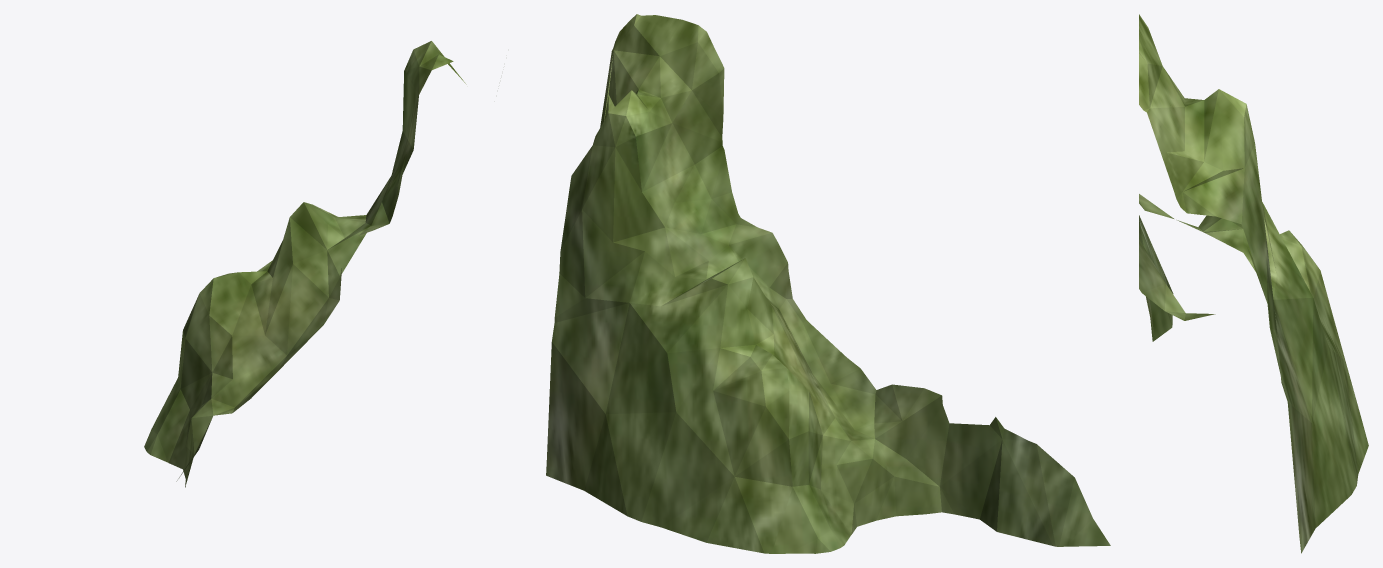
3 renders of one model, left to right at view 1: azimuth 30°, elevation 25°; view 2: azimuth 150°, elevation 25°; view 3: azimuth 270°, elevation 25°, orthographic. The views are drawn at different scales.
Size of the model in its own units: 2.66 by 2.16 by 0.9115.
Materials: 1 (1 with a texture image).
